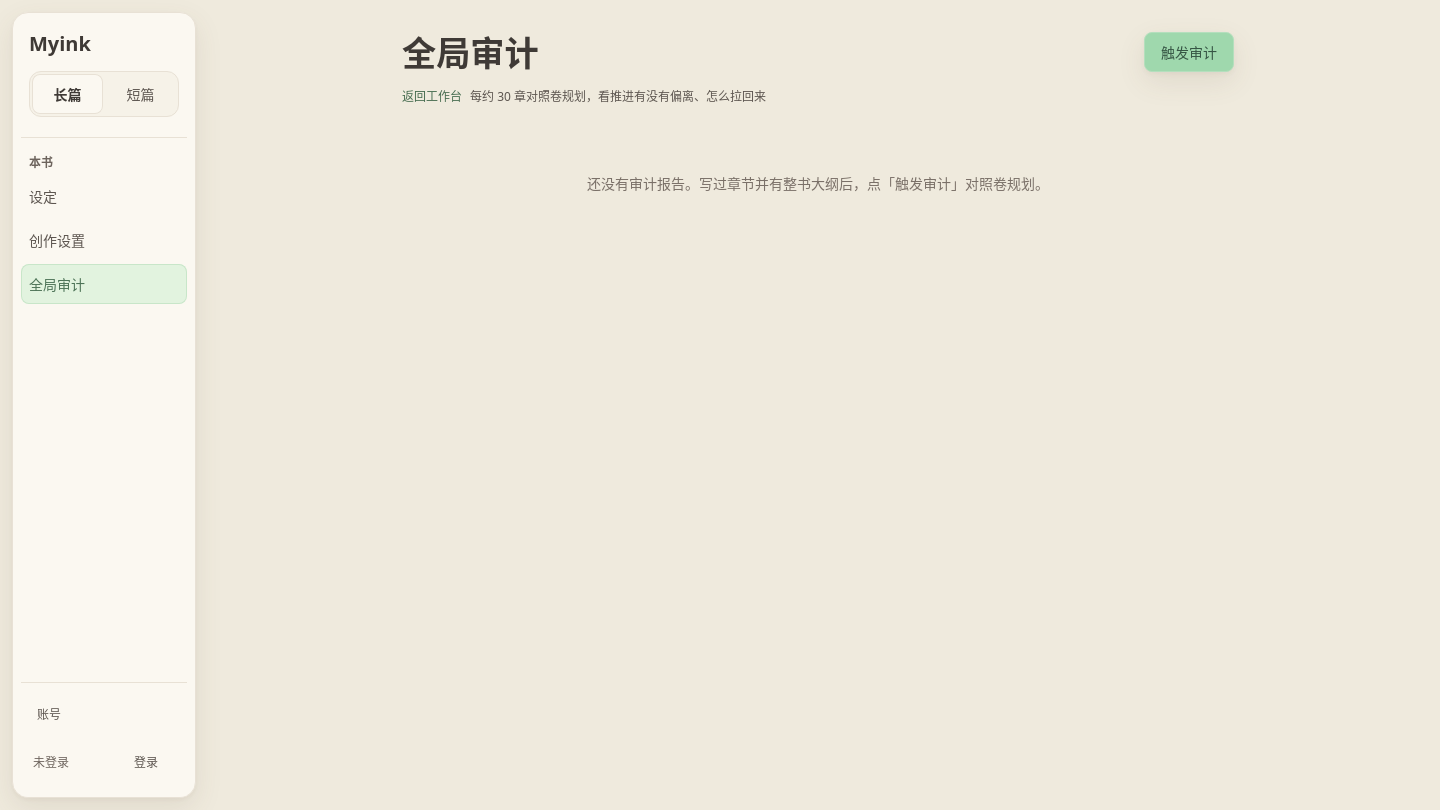
Test: explains audit HTTP 400 and refreshes failed reports
The image size is (1440, 810).
Expected: the text "还没有审计报告。写过章节并有整书大纲后，点「触发审计」对照卷规划。" is shown, [587, 174, 1049, 193]
Click the button "触发审计".
click(1189, 52)  # box [1144, 32, 1234, 72]
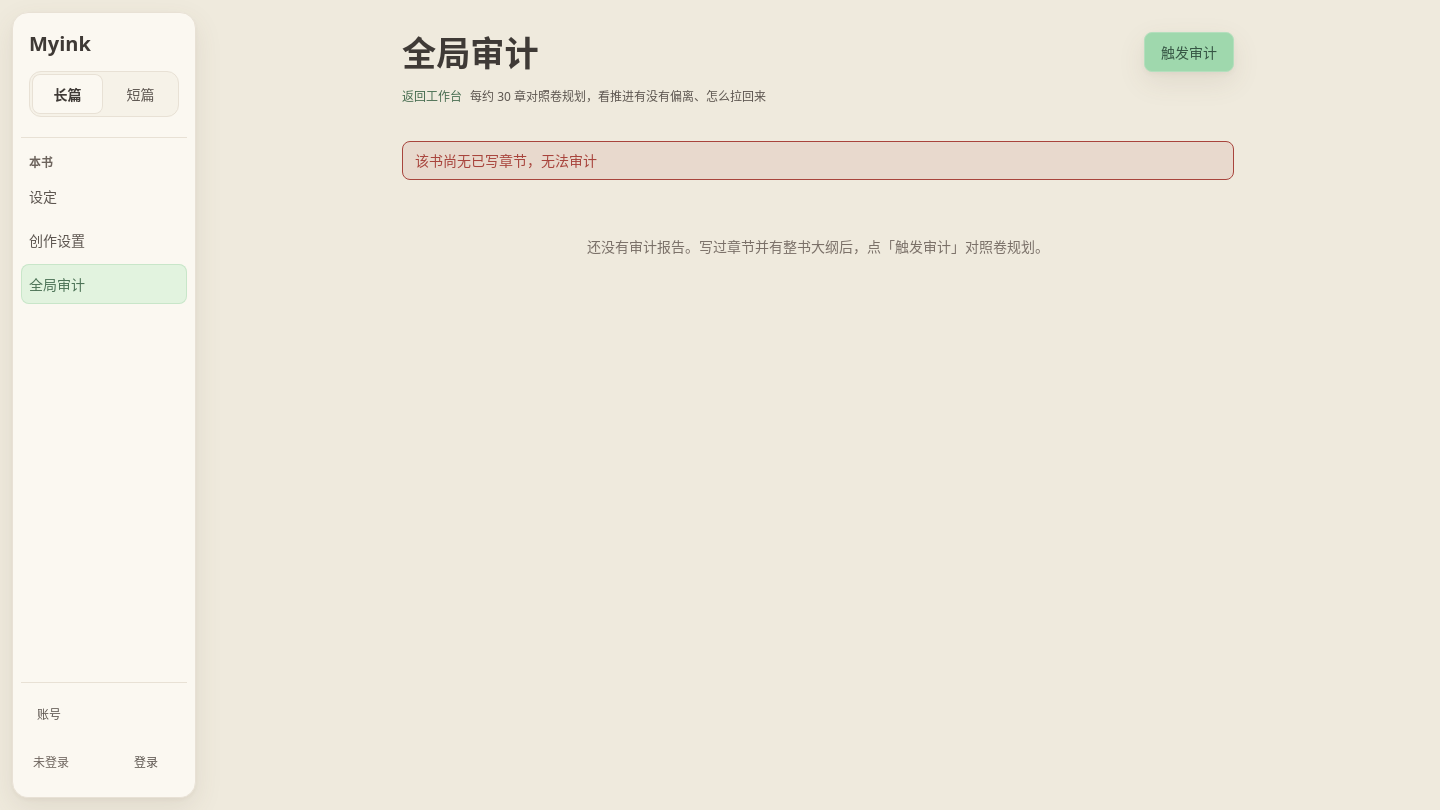
Result: the message "该书尚无已写章节，无法审计" is shown at [402, 141, 1234, 180]
Result: the message shows "尚无已写章节" at [415, 151, 597, 170]
